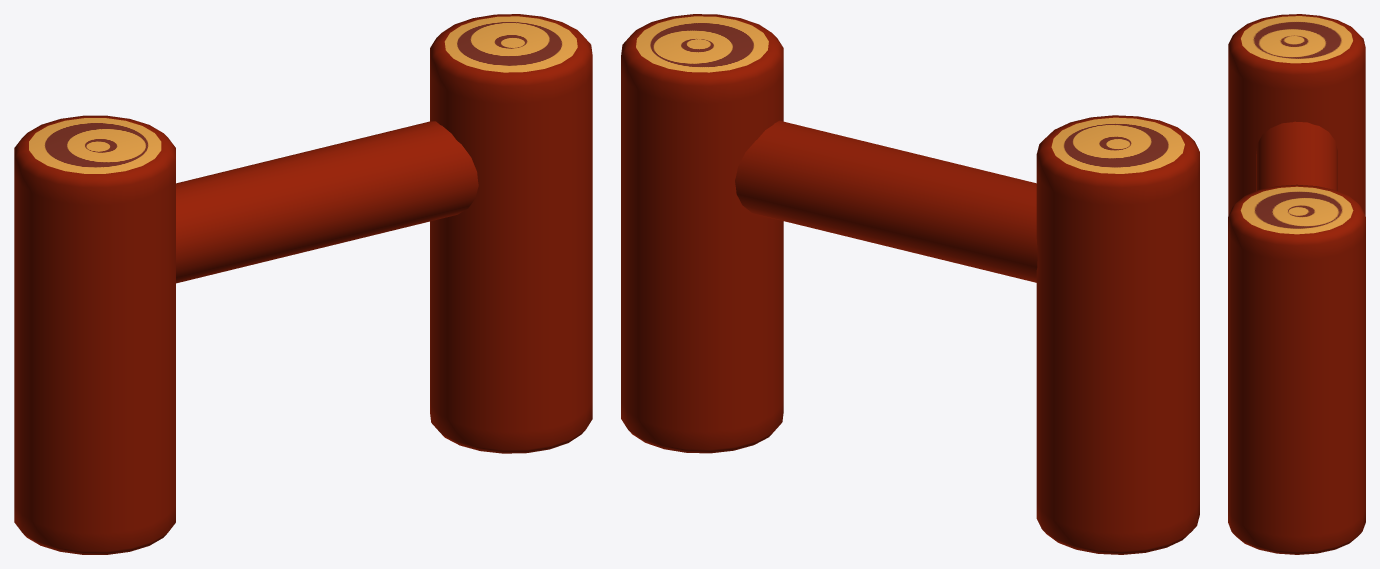
File: ArchJapanese2.fbx
3 renders of one model, left to right at view 1: azimuth 30°, elevation 25°; view 2: azimuth 150°, elevation 25°; view 3: azimuth 270°, elevation 25°, orthographic. The views are drawn at different scales.
Visible parts, largest first — view 1: LogsBig3, LogsBig, LogsBig2; view 2: LogsBig3, LogsBig, LogsBig2; view 3: LogsBig, LogsBig3, LogsBig2.
Boxes of the visible parts, x1,y1,x2,y2 form: LogsBig3: (14, 115, 175, 554); LogsBig: (430, 14, 592, 453); LogsBig2: (176, 121, 478, 283); LogsBig3: (1036, 115, 1199, 554); LogsBig: (621, 14, 783, 453); LogsBig2: (735, 120, 1037, 282); LogsBig: (1228, 184, 1365, 554); LogsBig3: (1228, 14, 1365, 215); LogsBig2: (1256, 121, 1337, 190).
Bounding box in the file's own units: 11.74 × 7.63 × 2.98.
Materials: 1 (1 with a texture image).
